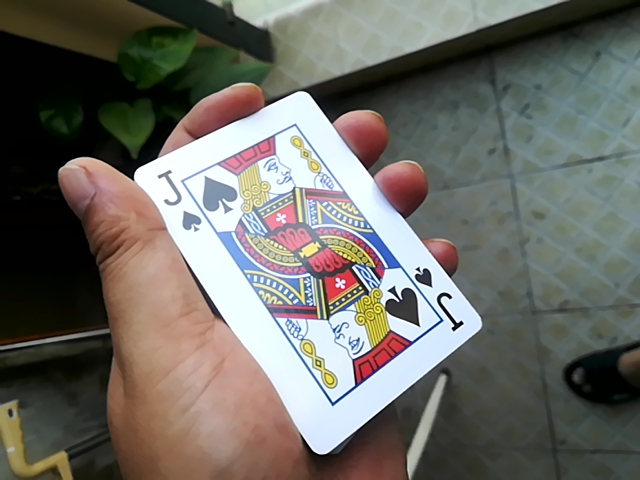ht j: (129, 82, 455, 461)
